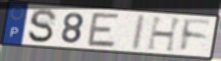8: (61, 11, 85, 44)
E: (85, 11, 121, 49)
F: (179, 17, 213, 53)
H: (145, 16, 184, 54)
I: (129, 13, 147, 52)
S: (26, 8, 59, 45)
